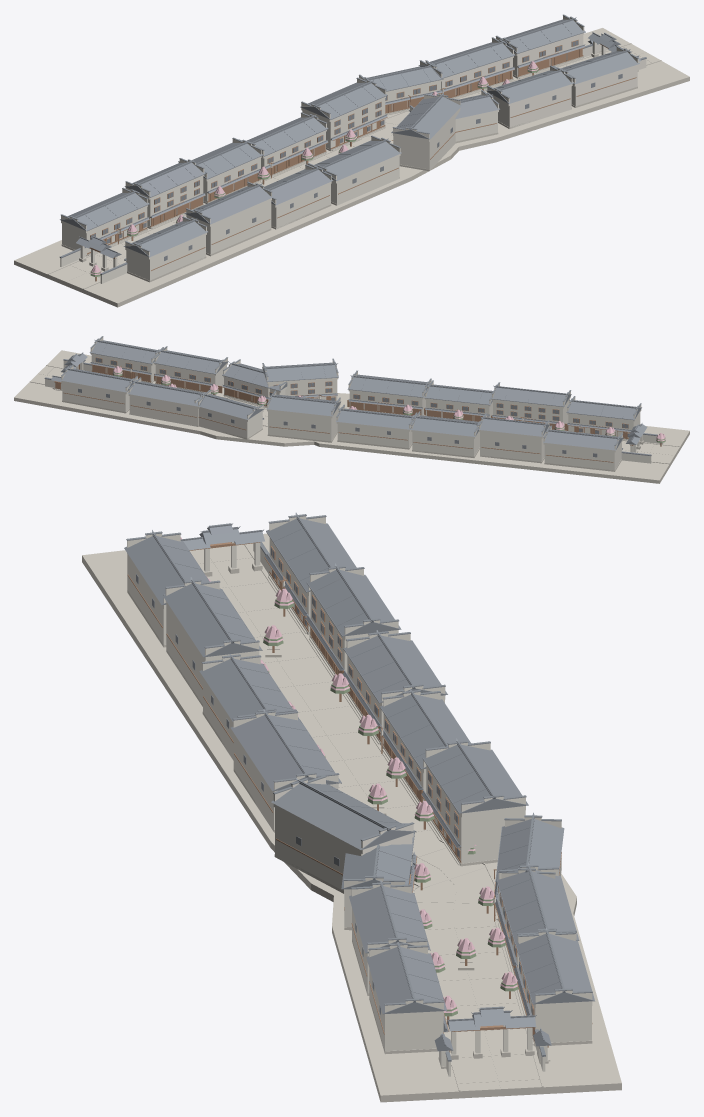
Rendered from taohuawu.glb.
3 views of the same model, one above another, from view 1: azimuth 30°, elevation 25°; view 2: azimuth 150°, elevation 25°; view 3: azimuth 270°, elevation 25° (orthographic). The views are drawn at different scales.
Visible parts, largest first — view 1: thw_tile, thw_wall, thw_stone, thw_wood, thw_blossom; view 2: thw_tile, thw_wall, thw_stone, thw_wood, thw_blossom, thw_leaf; view 3: thw_tile, thw_stone, thw_wall, thw_wood, thw_blossom, thw_leaf.
Part boxes in pixels (<box>): thw_tile: <box>59,14,646,274</box>; thw_wall: <box>60,16,646,283</box>; thw_stone: <box>14,28,689,307</box>; thw_wood: <box>87,39,636,281</box>; thw_blossom: <box>90,61,538,274</box>; thw_tile: <box>44,336,657,457</box>; thw_wall: <box>45,337,663,471</box>; thw_stone: <box>14,350,689,483</box>; thw_wood: <box>54,357,661,462</box>; thw_blossom: <box>113,366,665,441</box>; thw_leaf: <box>112,371,665,442</box>; thw_tile: <box>124,512,594,1061</box>; thw_stone: <box>82,533,621,1102</box>; thw_wall: <box>127,516,592,1076</box>; thw_wood: <box>127,542,592,1052</box>; thw_blossom: <box>180,537,517,1012</box>; thw_leaf: <box>263,597,518,1016</box>.
Size of the model in its own units: 221 by 13.71 by 88.82.
